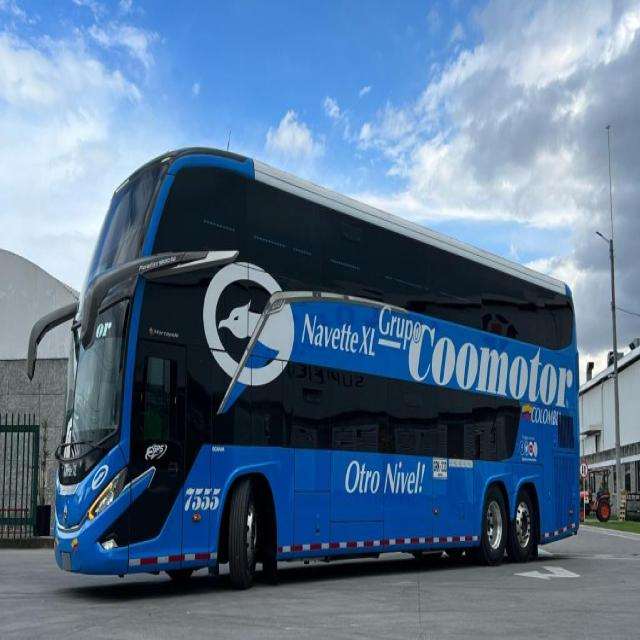BUS: (31, 141, 575, 598)
